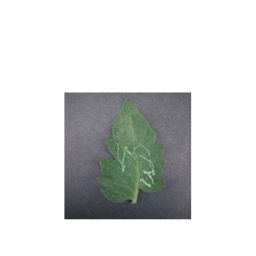liriomyza: (115, 142, 155, 189)
